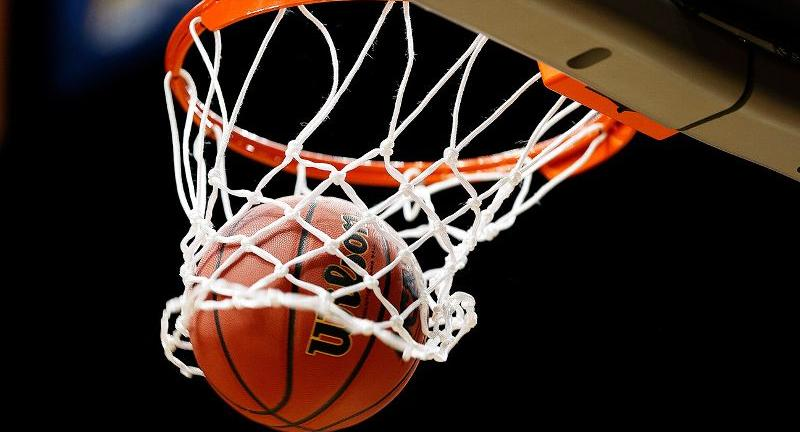basketball: (187, 192, 426, 432)
